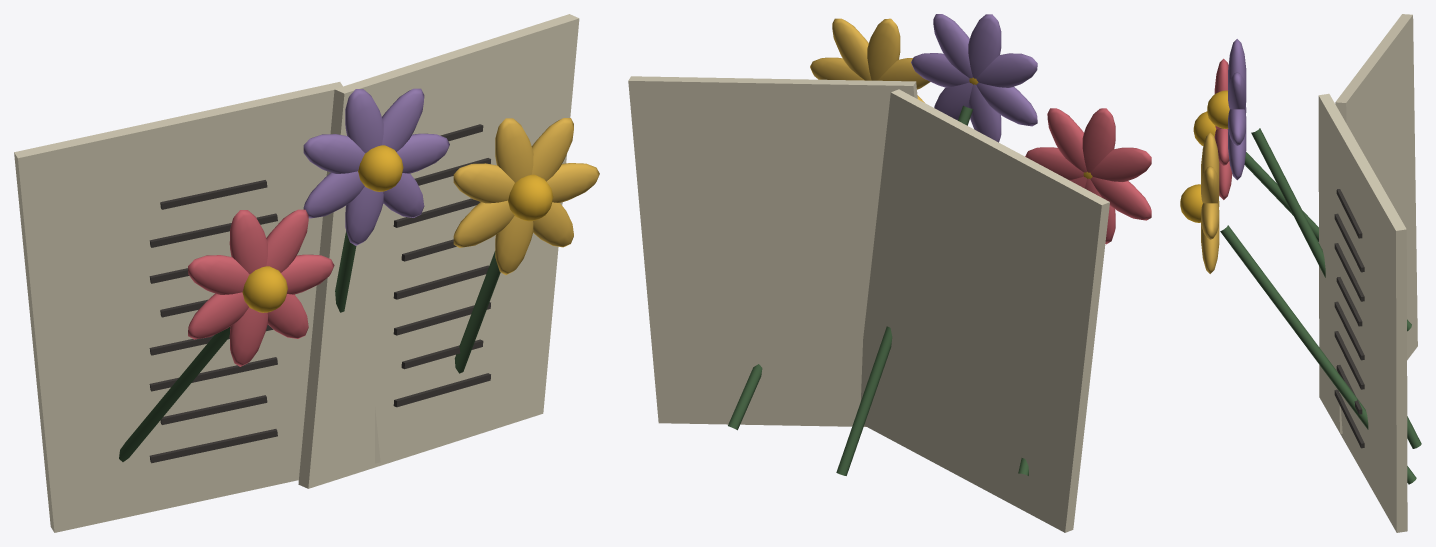
File: aic-26650-v1.glb
3 renders of one model, left to right at view 1: azimuth 30°, elevation 25°; view 2: azimuth 150°, elevation 25°; view 3: azimuth 270°, elevation 25°, orthographic. The views are drawn at different scales.
Parts seen in each view (by area): view 1: OpenNewspaper, FlowerPetals2, FlowerPetals1, FlowerPetals3, NewsprintLines, FlowerCenters, FlowerStems; view 2: OpenNewspaper, FlowerPetals3, FlowerPetals1, FlowerPetals2, FlowerStems; view 3: OpenNewspaper, FlowerStems, NewsprintLines, FlowerPetals3, FlowerPetals2, FlowerCenters, FlowerPetals1.
Part boxes in pixels (bbox=[...]): OpenNewspaper: bbox=[14, 14, 579, 532]; FlowerPetals2: bbox=[453, 118, 599, 275]; FlowerPetals1: bbox=[188, 209, 334, 366]; FlowerPetals3: bbox=[303, 88, 449, 245]; NewsprintLines: bbox=[149, 124, 490, 463]; FlowerCenters: bbox=[242, 145, 553, 312]; FlowerStems: bbox=[119, 231, 500, 461]; OpenNewspaper: bbox=[628, 76, 1109, 532]; FlowerPetals3: bbox=[911, 14, 1037, 142]; FlowerPetals1: bbox=[1025, 108, 1151, 244]; FlowerPetals2: bbox=[810, 18, 930, 102]; FlowerStems: bbox=[728, 105, 1028, 475]; OpenNewspaper: bbox=[1318, 14, 1417, 532]; FlowerStems: bbox=[1220, 128, 1421, 484]; NewsprintLines: bbox=[1334, 189, 1364, 448]; FlowerPetals3: bbox=[1228, 39, 1246, 180]; FlowerPetals2: bbox=[1201, 132, 1219, 273]; FlowerCenters: bbox=[1180, 90, 1229, 222]; FlowerPetals1: bbox=[1214, 58, 1232, 199].
Size of the model in its own units: 1.17 by 0.947 by 0.5376.
